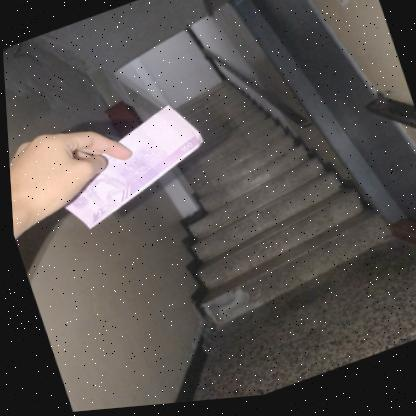one_hundred-back-vef: (38, 97, 217, 239)
